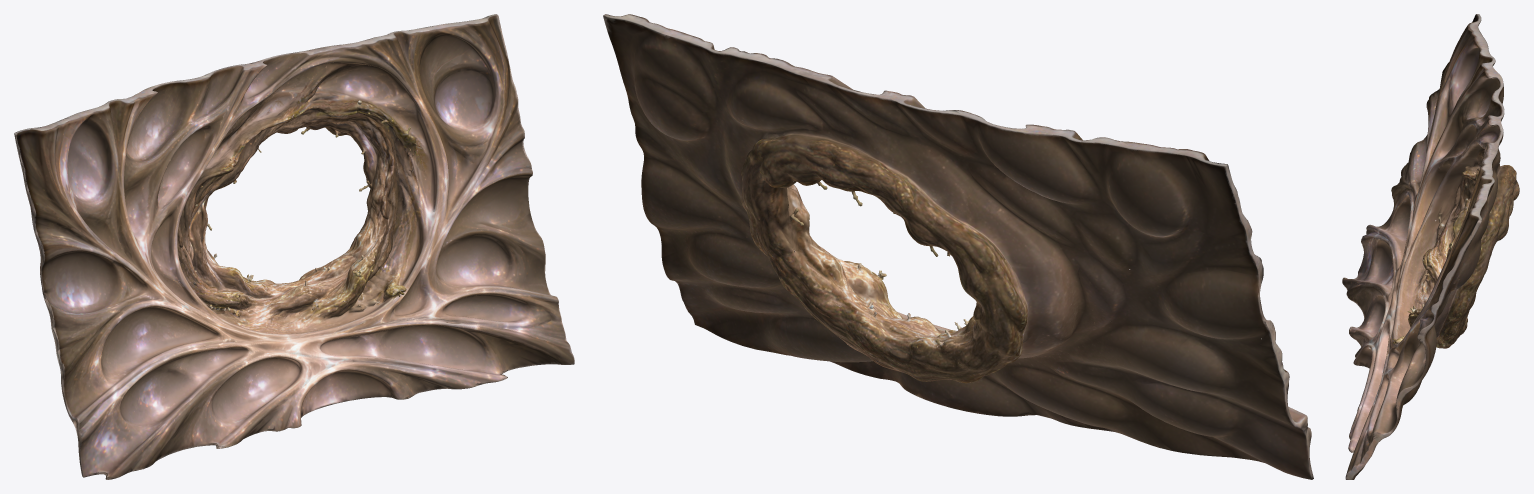
The model's file is bark-exit.glb.
3 views of the same model, side by side, from view 1: azimuth 30°, elevation 25°; view 2: azimuth 150°, elevation 25°; view 3: azimuth 270°, elevation 25° (orthographic). The views are drawn at different scales.
Visible parts, largest first — view 1: tripo_node_a6806caf-9335-4977-af81-233cdc39a096; view 2: tripo_node_a6806caf-9335-4977-af81-233cdc39a096; view 3: tripo_node_a6806caf-9335-4977-af81-233cdc39a096.
Part boxes in pixels (left/top/right/bottom): tripo_node_a6806caf-9335-4977-af81-233cdc39a096: left=14, top=14, right=574, bottom=479; tripo_node_a6806caf-9335-4977-af81-233cdc39a096: left=603, top=14, right=1313, bottom=479; tripo_node_a6806caf-9335-4977-af81-233cdc39a096: left=1342, top=14, right=1519, bottom=479.
Bounding box in the file's own units: 0.9797 × 0.5706 × 0.3532.
1 material, 1 textured.
